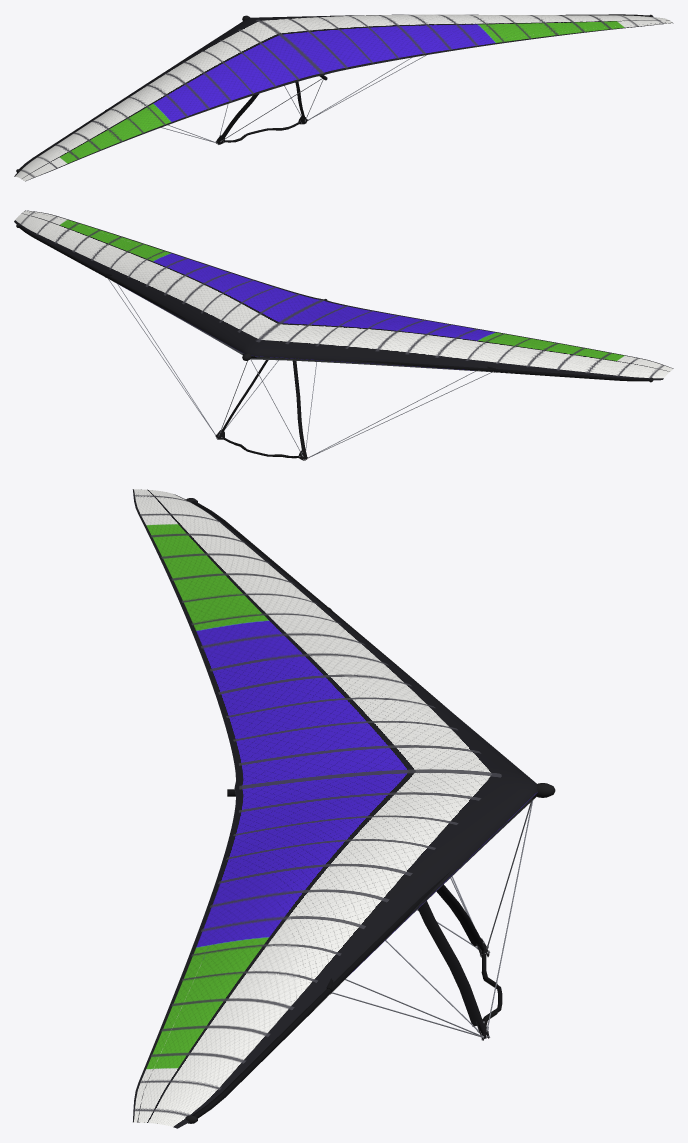
Rendered from glider_dp_she1.glb.
3 views of the same model, one above another, from view 1: azimuth 30°, elevation 25°; view 2: azimuth 150°, elevation 25°; view 3: azimuth 270°, elevation 25° (orthographic). The views are drawn at different scales.
Parts seen in each view (by area): view 1: Sail, ControlFrame, Frame; view 2: Sail, ControlFrame, Frame; view 3: Sail, ControlFrame, Frame.
Boxes of the visible parts, x1,y1,x2,y2 form: Sail: (14, 14, 673, 181); ControlFrame: (161, 55, 426, 144); Frame: (16, 14, 653, 172); Sail: (14, 210, 673, 380); ControlFrame: (108, 279, 491, 460); Frame: (16, 223, 653, 382); Sail: (132, 489, 537, 1128); ControlFrame: (332, 800, 533, 1040); Frame: (185, 498, 555, 1123).
Bounding box in the file's own units: 10.35 × 1.77 × 2.92.
8 materials, 1 textured.
